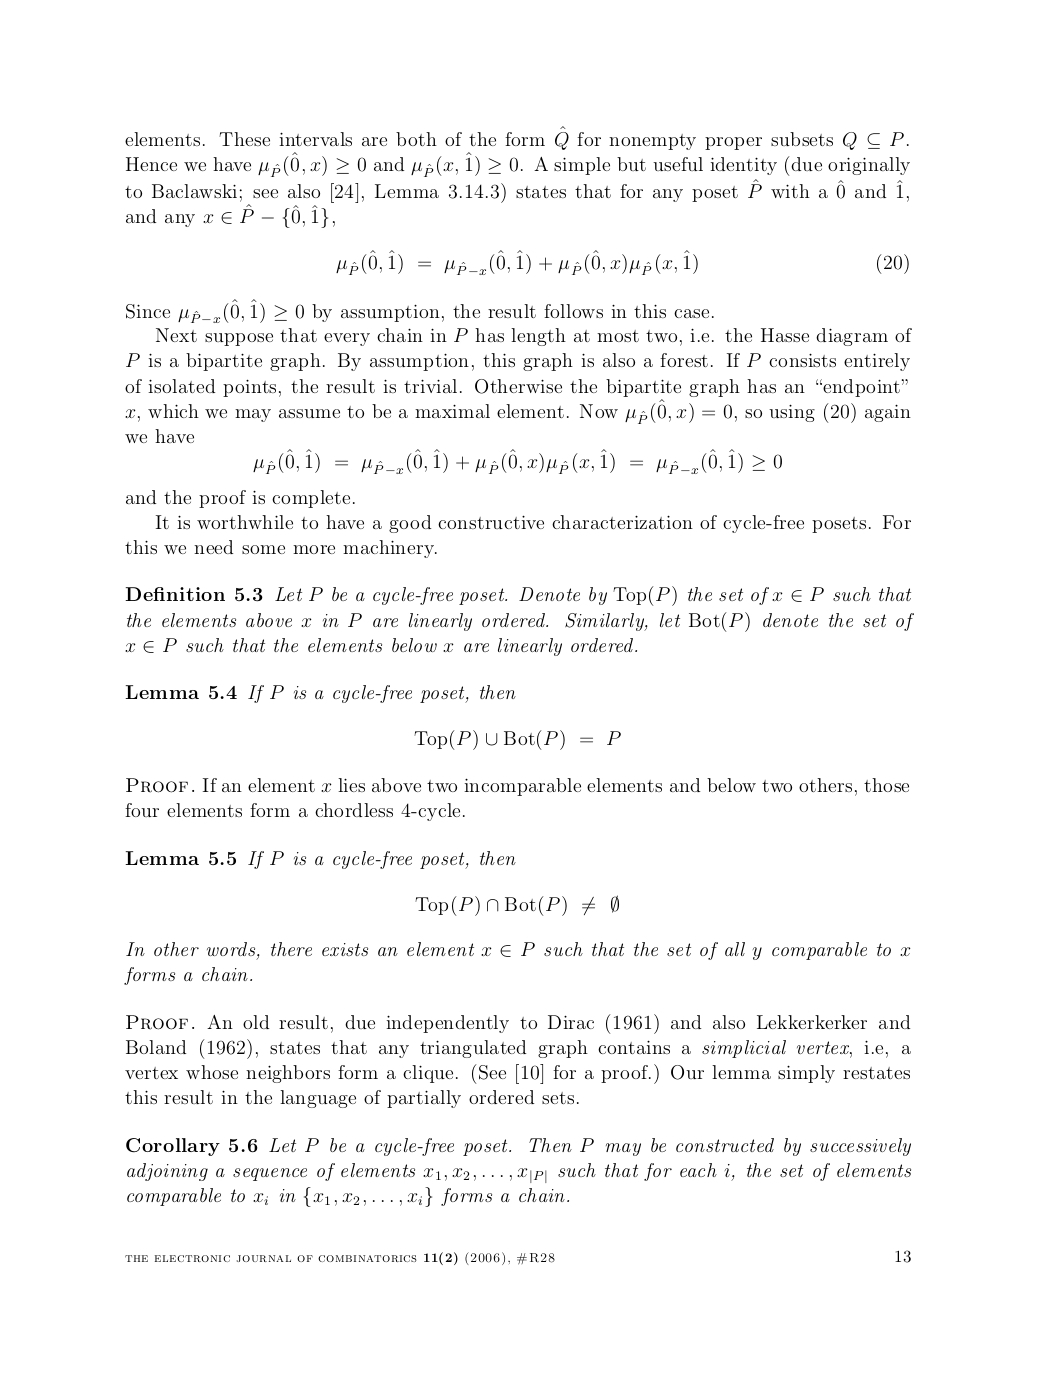formula: (335, 249, 908, 275), (253, 448, 781, 474), (415, 894, 619, 916), (413, 729, 620, 750)
